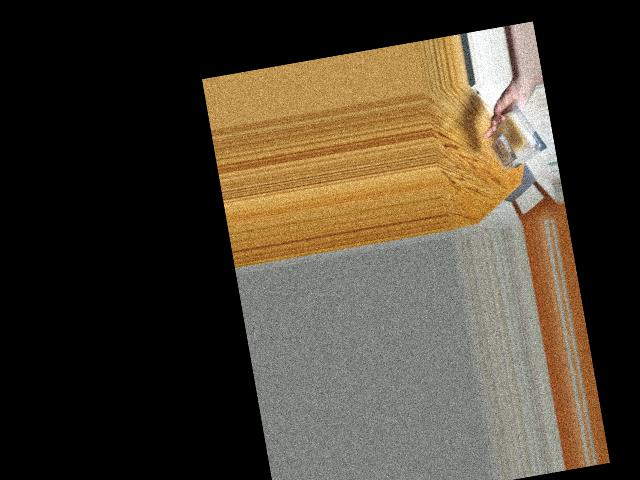cheese: (490, 106, 540, 171)
